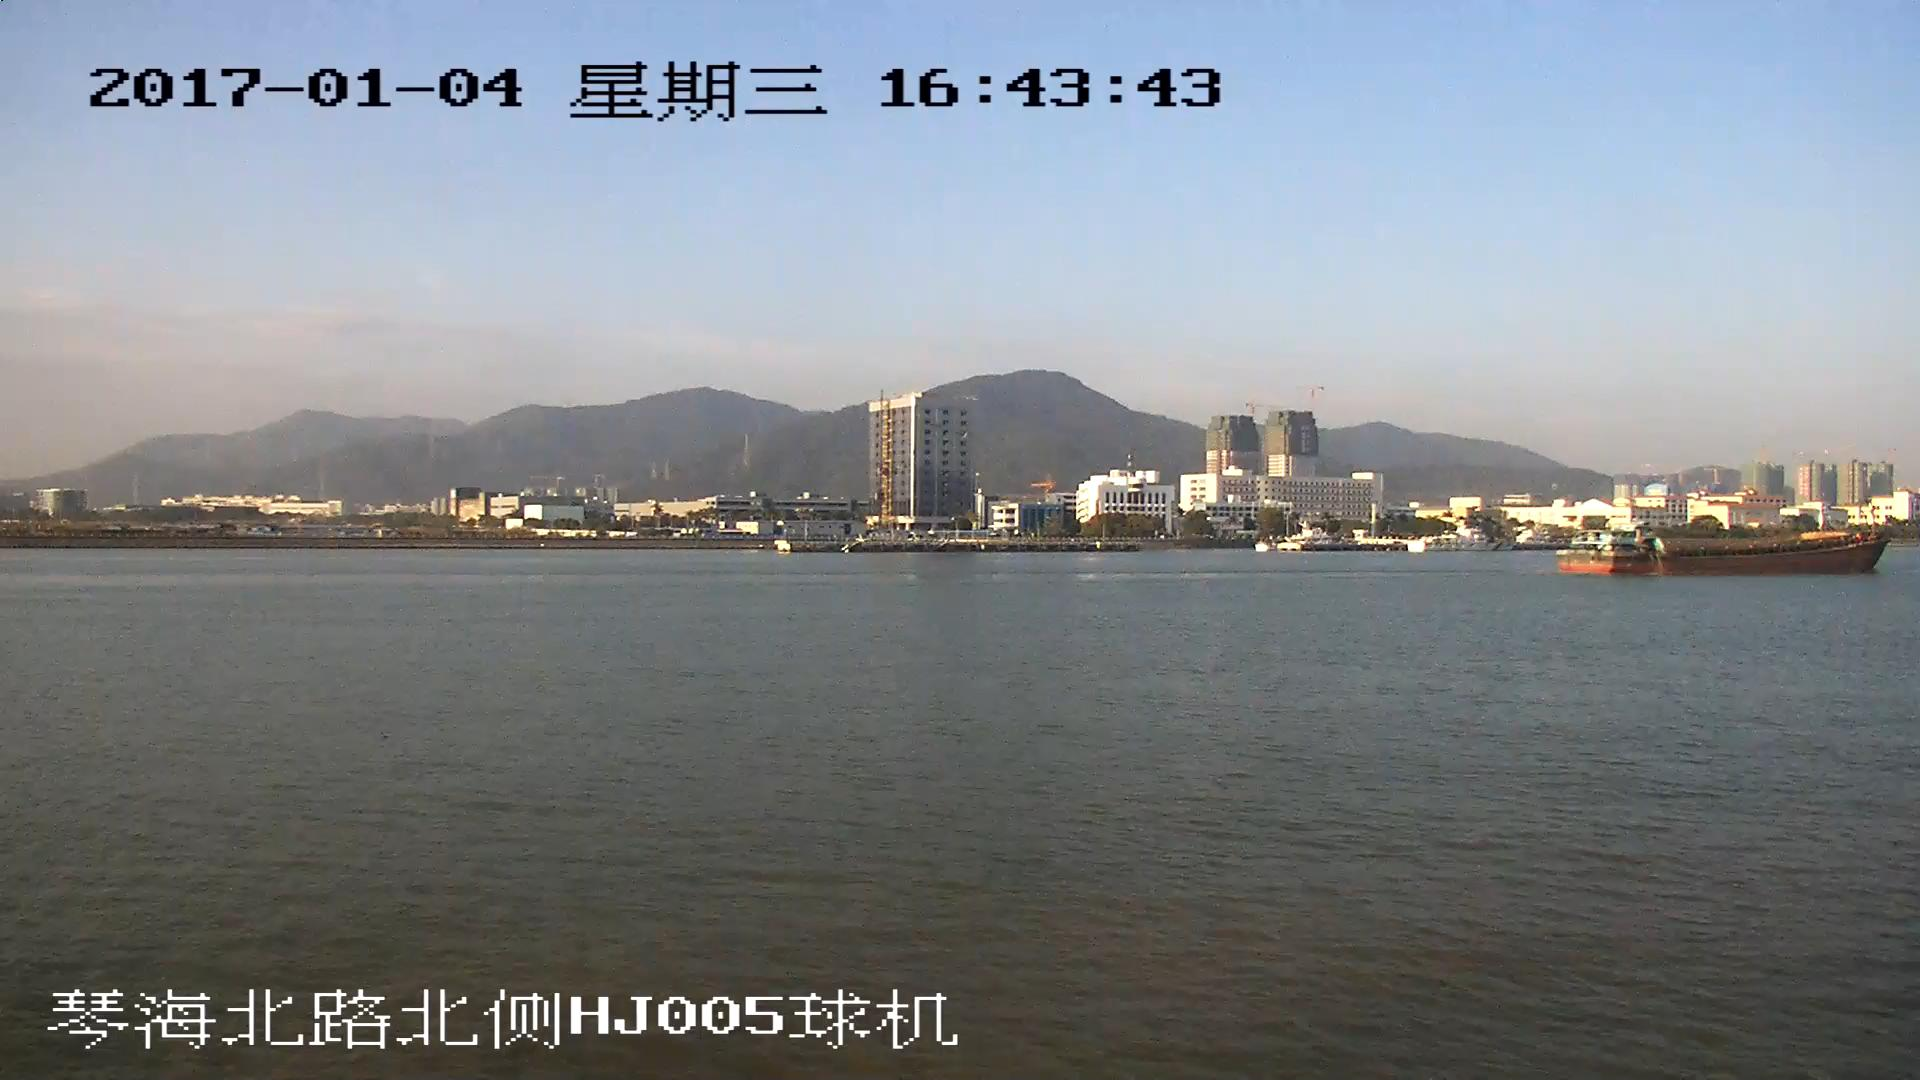bulk cargo carrier: (1561, 528, 1894, 575)
